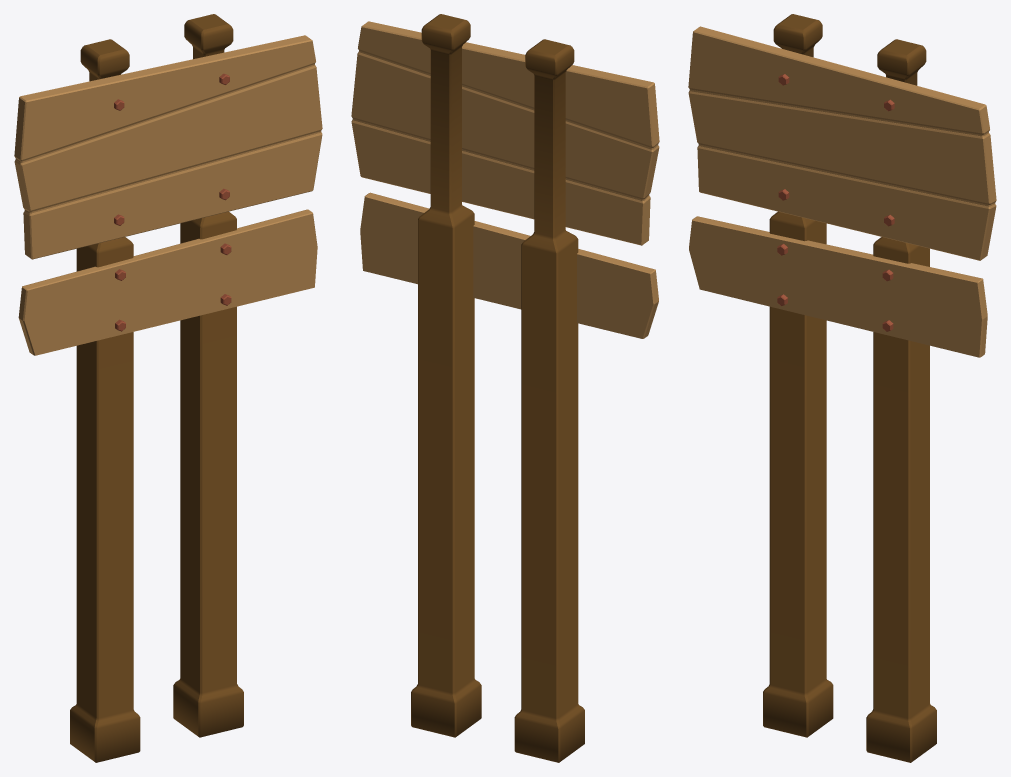
File: props_73.gltf
The picture shows the model from 3 angles, left to right: view 1: azimuth 30°, elevation 25°; view 2: azimuth 150°, elevation 25°; view 3: azimuth 330°, elevation 25°; orthographic projection.
Visible parts, largest first — view 1: props_73; view 2: props_73; view 3: props_73.
Boxes of the visible parts, bbox=[...] form: props_73: bbox=[14, 14, 322, 762]; props_73: bbox=[351, 14, 659, 762]; props_73: bbox=[688, 14, 996, 762].
Size of the model in its own units: 1.17 by 2.6 by 0.204.
1 material, 1 textured.
